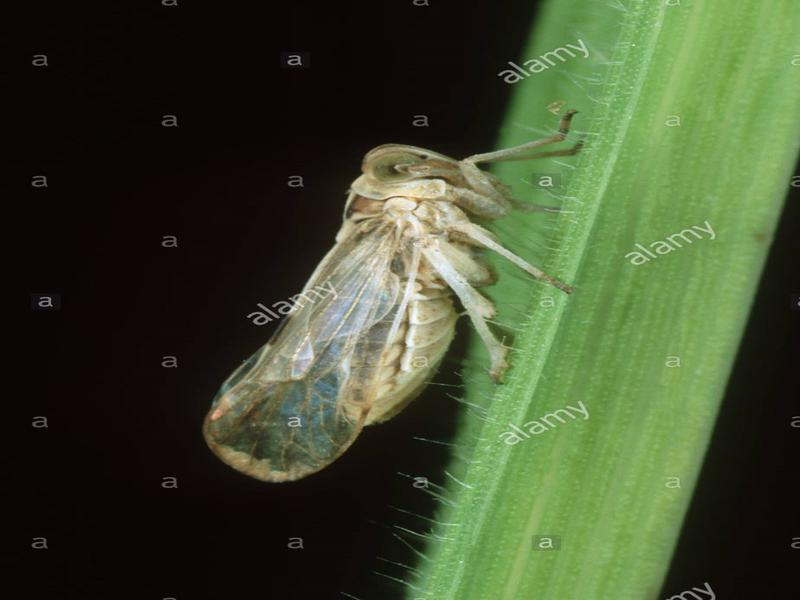White_backed_plant_hopper: (197, 137, 519, 489)
